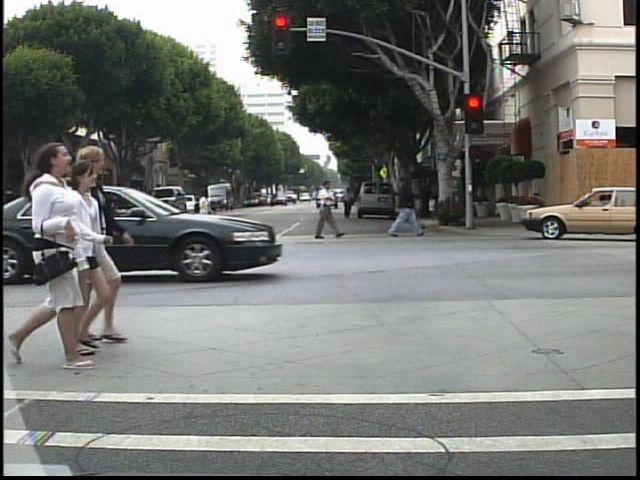person: (8, 144, 100, 375), (49, 162, 124, 365), (74, 146, 139, 350), (386, 167, 431, 240), (312, 176, 339, 240), (140, 188, 165, 251), (83, 189, 108, 246), (193, 184, 216, 242), (76, 183, 94, 247), (341, 185, 356, 220)
